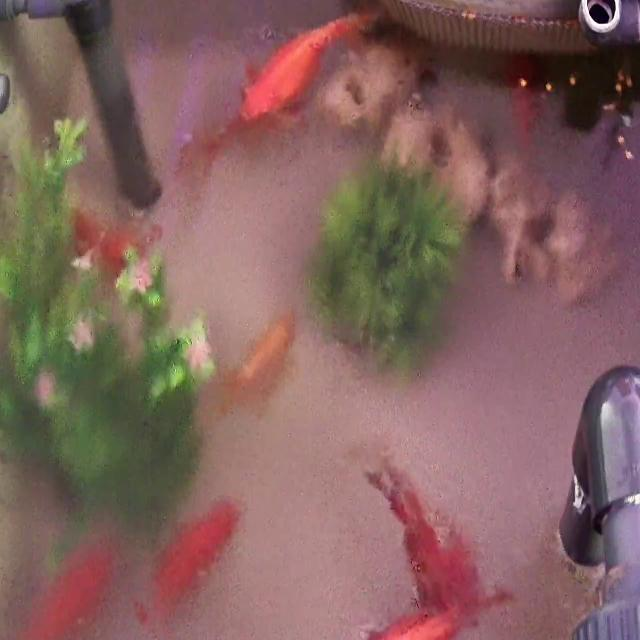fish: (372, 483, 487, 617), (140, 496, 244, 622), (237, 10, 351, 120), (9, 535, 118, 640), (207, 311, 294, 426), (176, 99, 282, 184), (70, 206, 161, 282), (339, 605, 459, 640), (501, 52, 549, 138)
